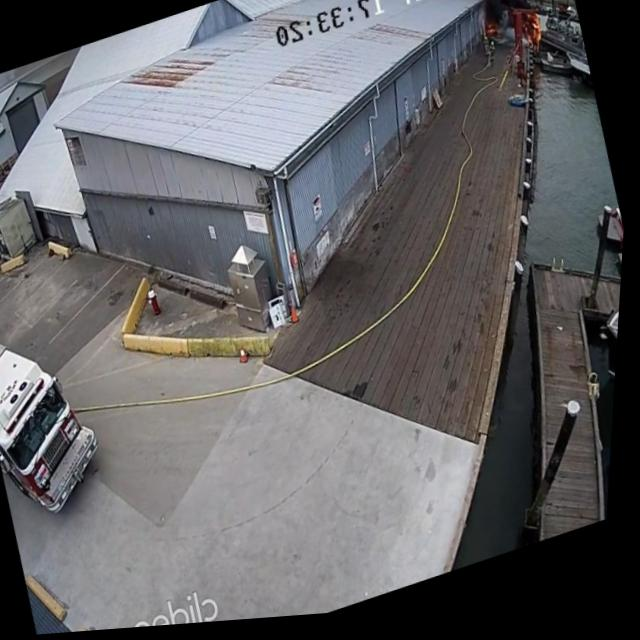fire: (517, 16, 553, 66), (482, 25, 502, 45), (369, 0, 434, 5)
